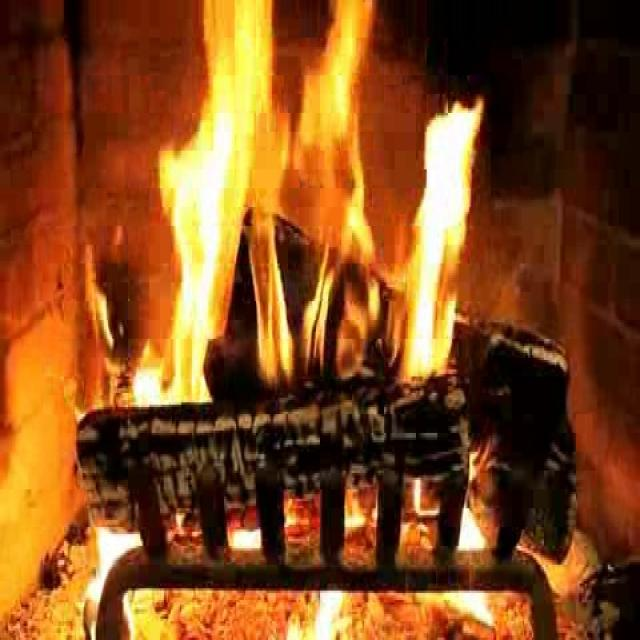fire: (146, 4, 494, 439)
